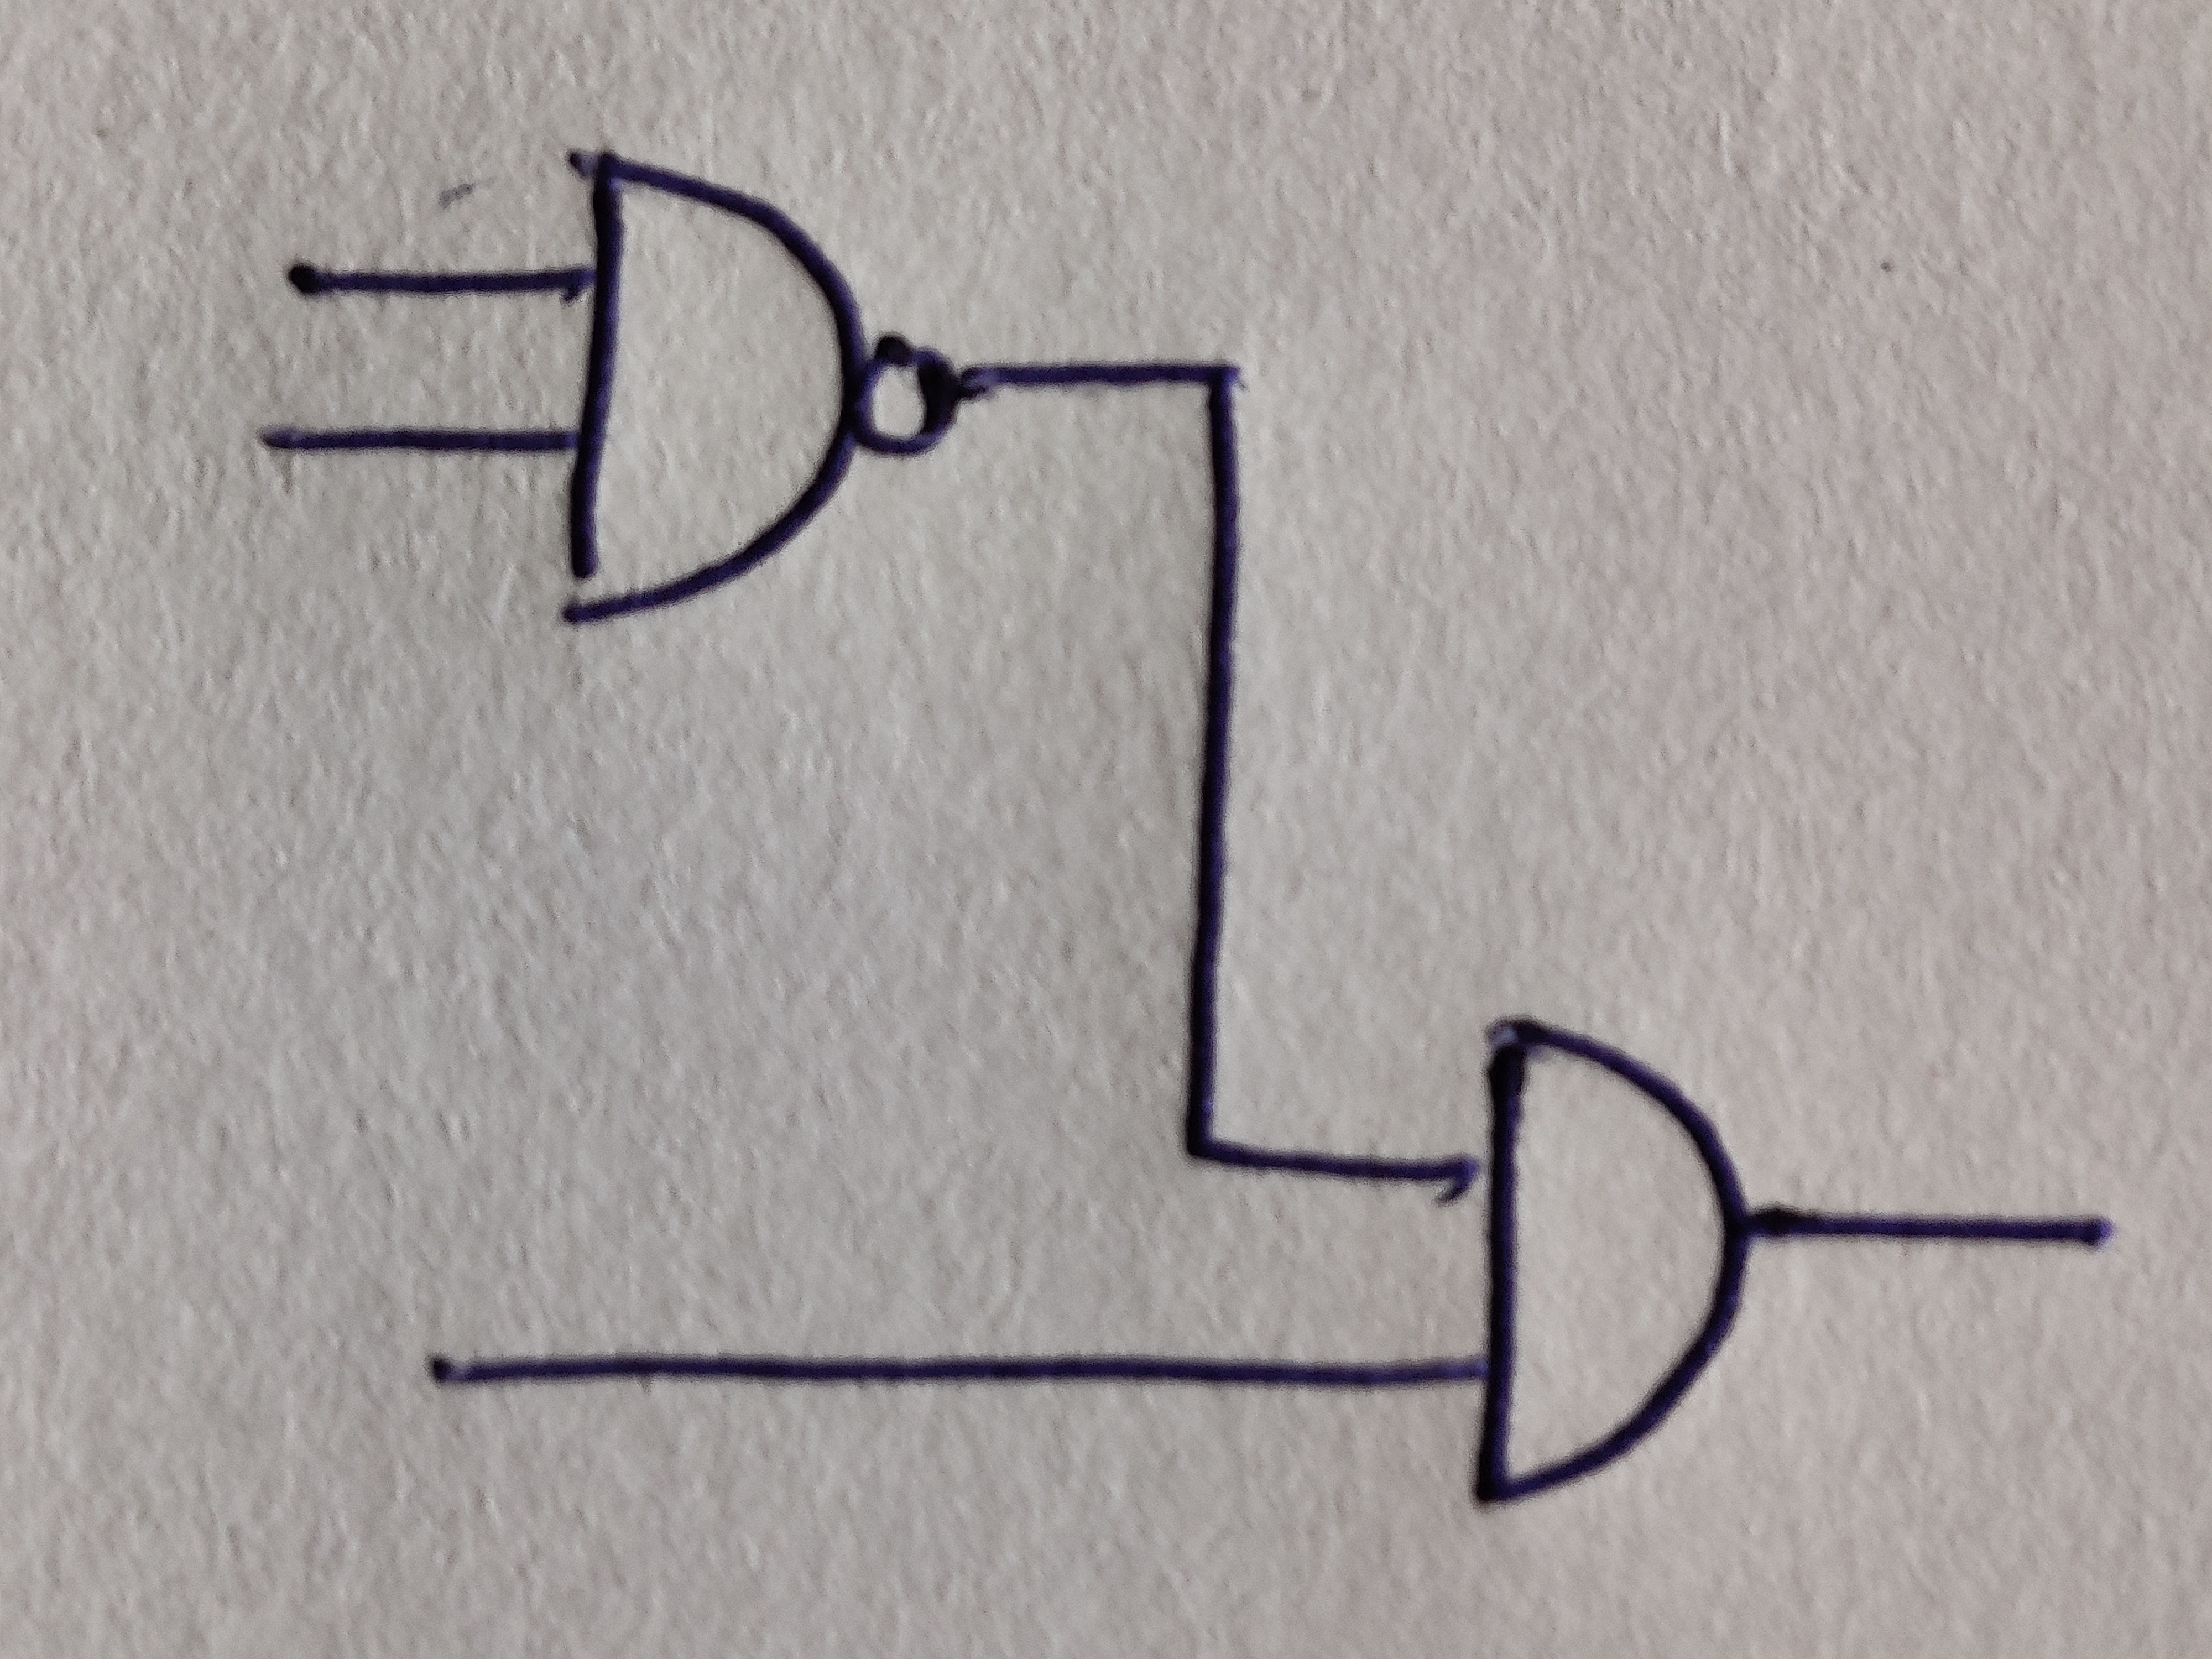and: (570, 150, 862, 626), (1474, 1018, 1749, 1504)
not: (859, 335, 956, 458)
